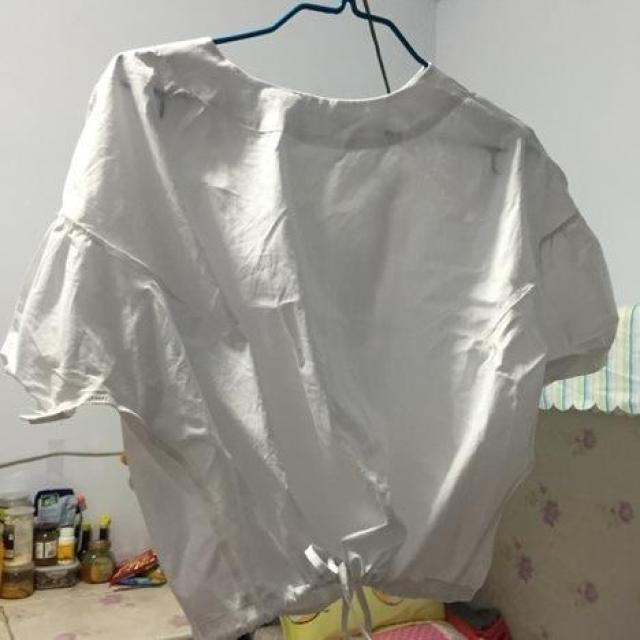short-sleeve-top: (44, 40, 628, 577)
